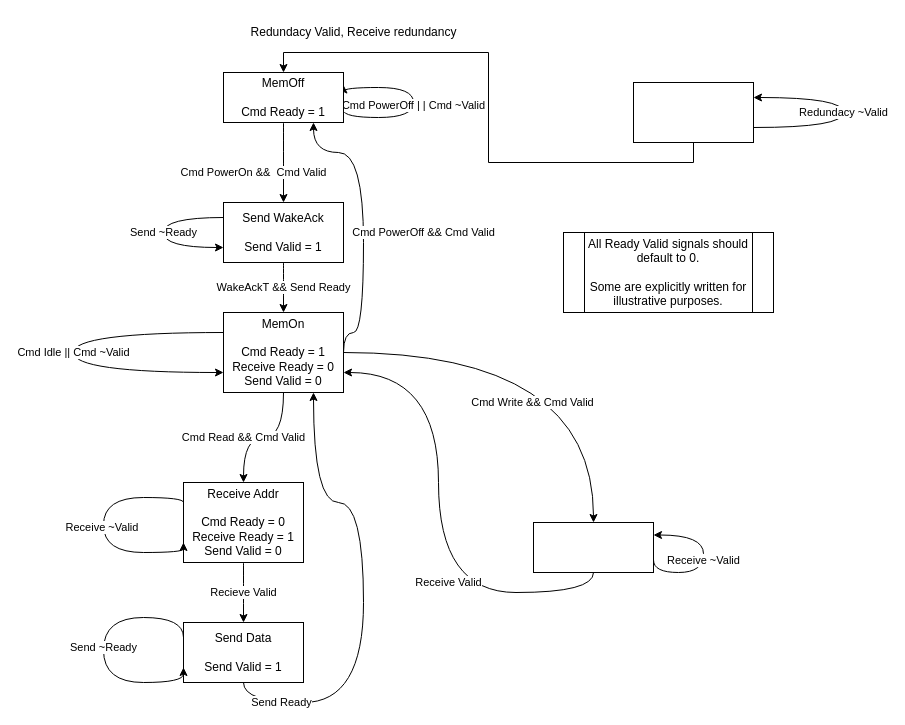
Some shapes in this 905 by 725 pixel diagram are drawn without their labels. Each missing label, with the centre of its shape:
"MemInit Receive Ready = 1" goes at (x=693, y=112).
"Receive Addr, Data Receive Ready = 1" goes at (x=593, y=547).
